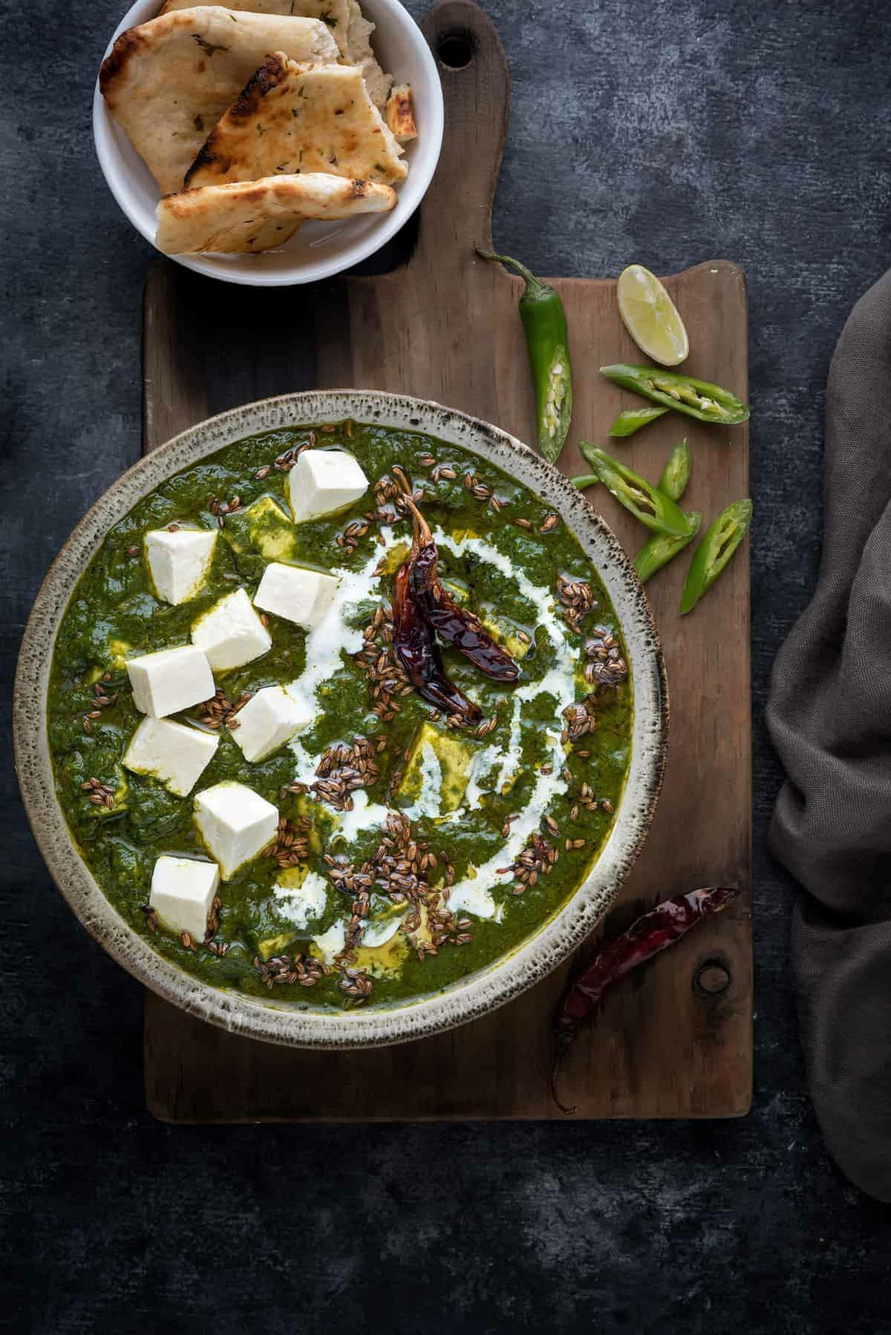PalakPaneer: (35, 416, 628, 1017)
